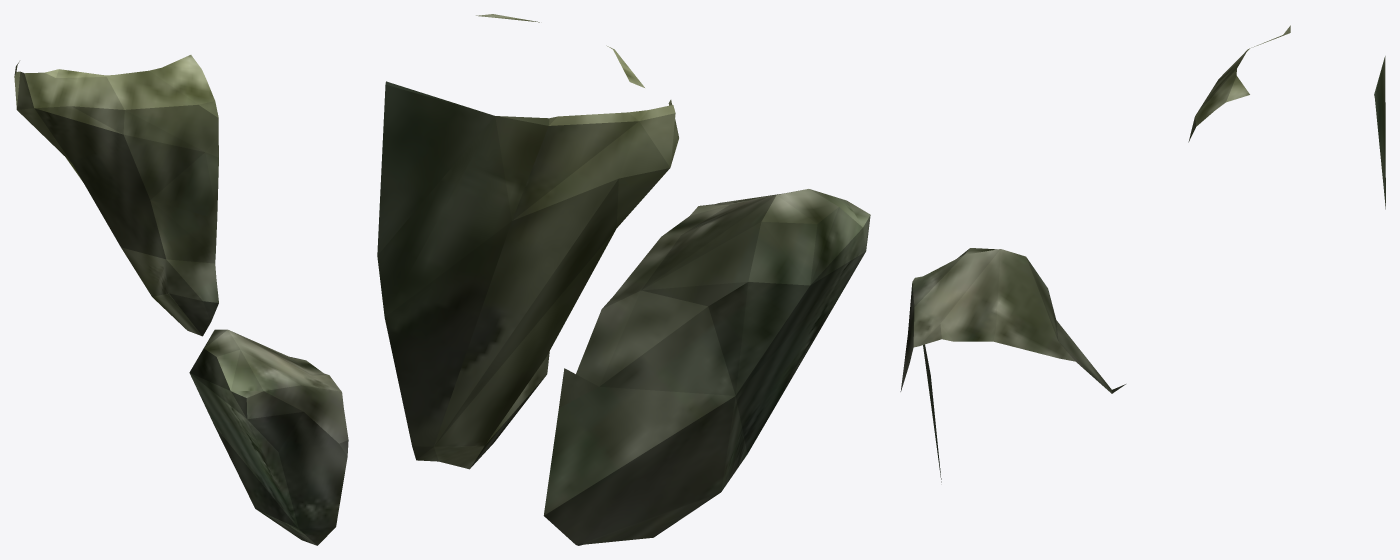
The picture shows the model from 3 angles, left to right: view 1: azimuth 30°, elevation 25°; view 2: azimuth 150°, elevation 25°; view 3: azimuth 270°, elevation 25°; orthographic projection. The views are drawn at different scales.
Bounding box in the file's own units: 0.5222 × 1.34 × 1.31.
Materials: 1 (1 with a texture image).
